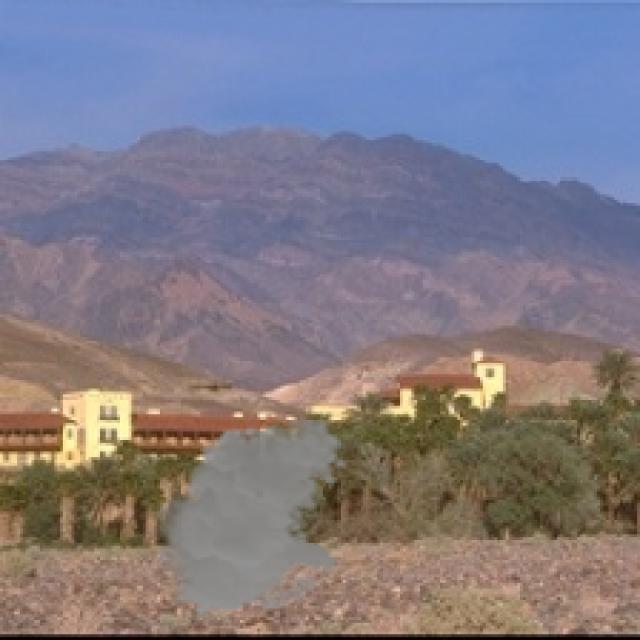Smoke: (146, 417, 348, 617)
